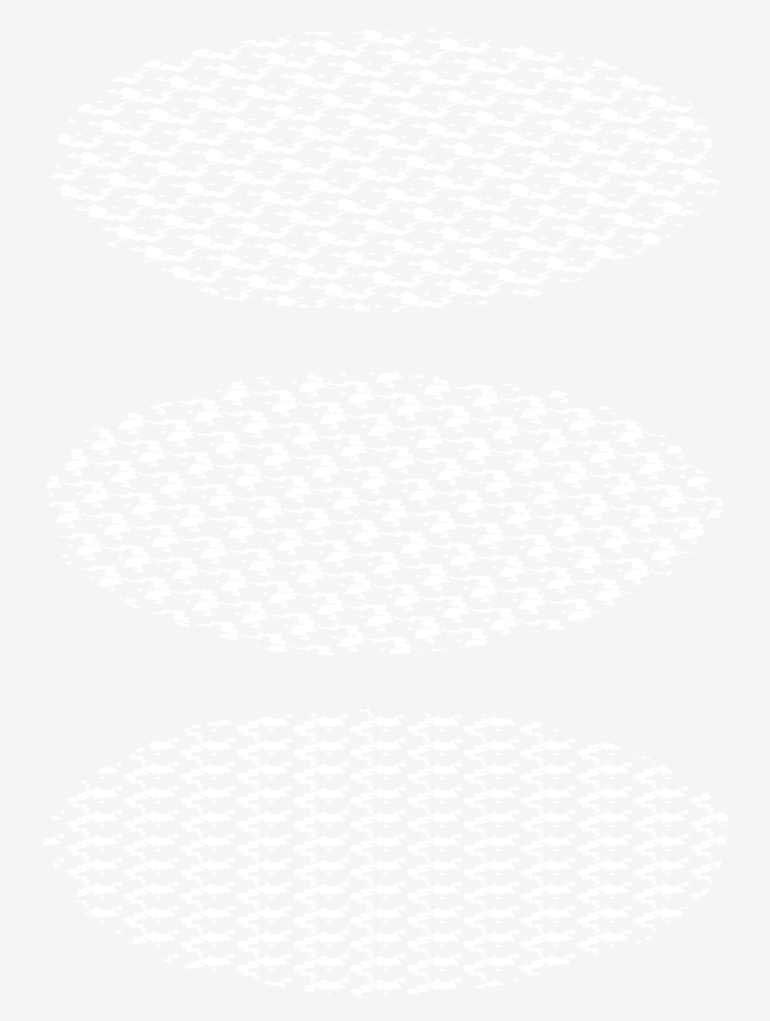
File: snow_dust2.glb
3 renders of one model, top to bottom at view 1: azimuth 30°, elevation 25°; view 2: azimuth 150°, elevation 25°; view 3: azimuth 270°, elevation 25°, orthographic.
Size of the model in its own units: 141 by 0.1072 by 144.
Materials: 1 (1 with a texture image).
